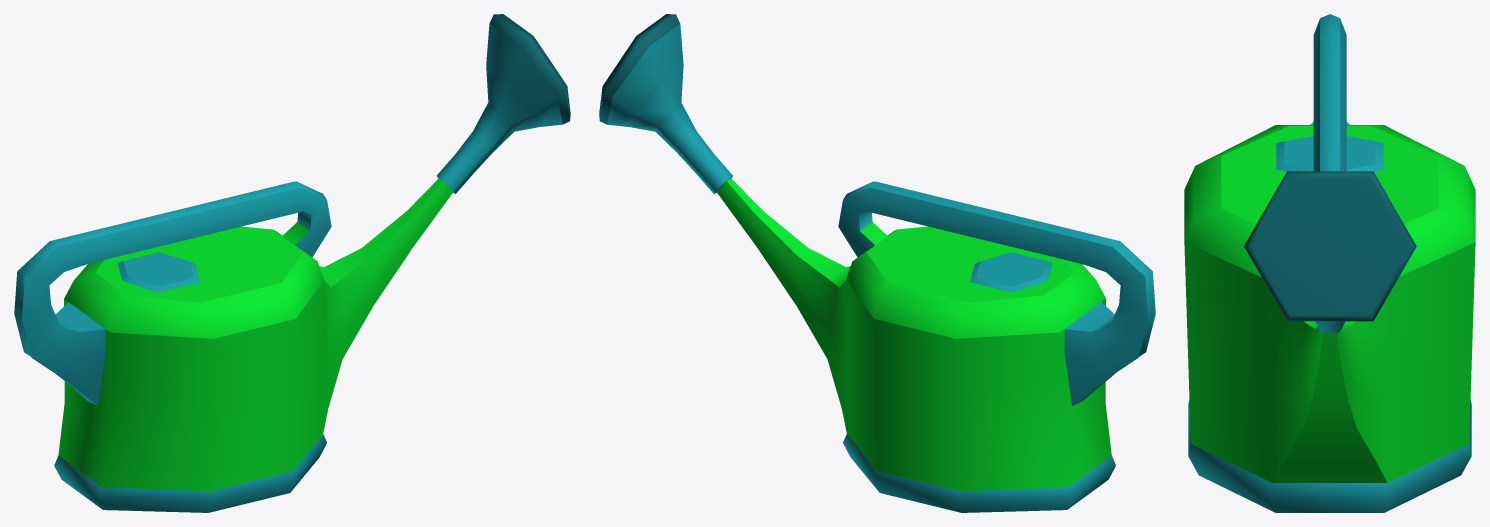
The model's file is SuSebili.fbx.
3 renders of one model, left to right at view 1: azimuth 30°, elevation 25°; view 2: azimuth 150°, elevation 25°; view 3: azimuth 270°, elevation 25°, orthographic. The views are drawn at different scales.
Visible parts, largest first — view 1: SuSebili; view 2: SuSebili; view 3: SuSebili.
Part boxes in pixels (left/top/right/bottom): SuSebili: left=14, top=14, right=570, bottom=512; SuSebili: left=599, top=14, right=1155, bottom=512; SuSebili: left=1184, top=14, right=1475, bottom=512.
Size of the model in its own units: 175 by 113 by 62.56.
